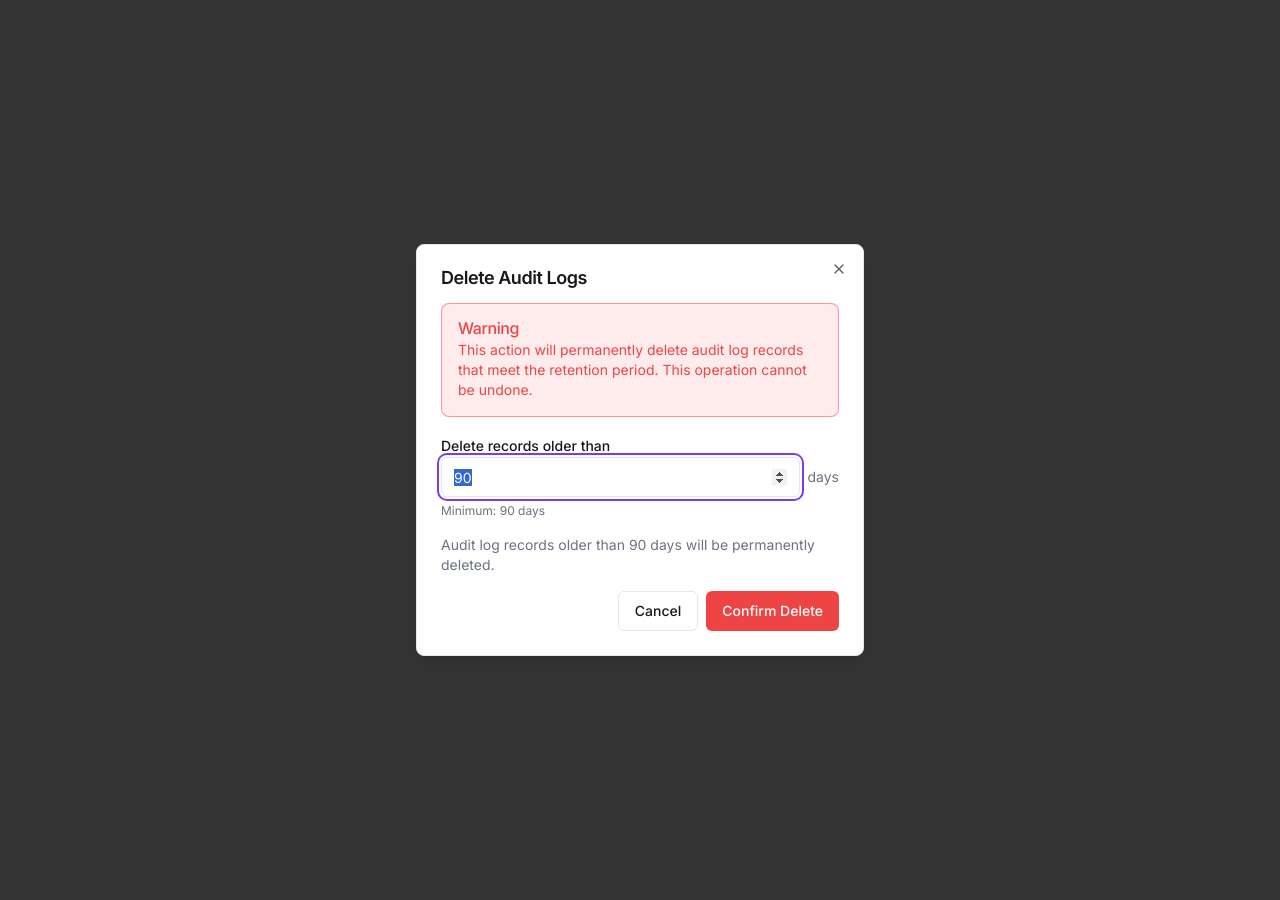
Test: DeleteAuditLogsDialog › defaults to 90 and disables confirm below minimum
Step 1. Replace the text in the number field with test id "txt-retention-days" with "89" → (620, 477), box [441,457,800,497]
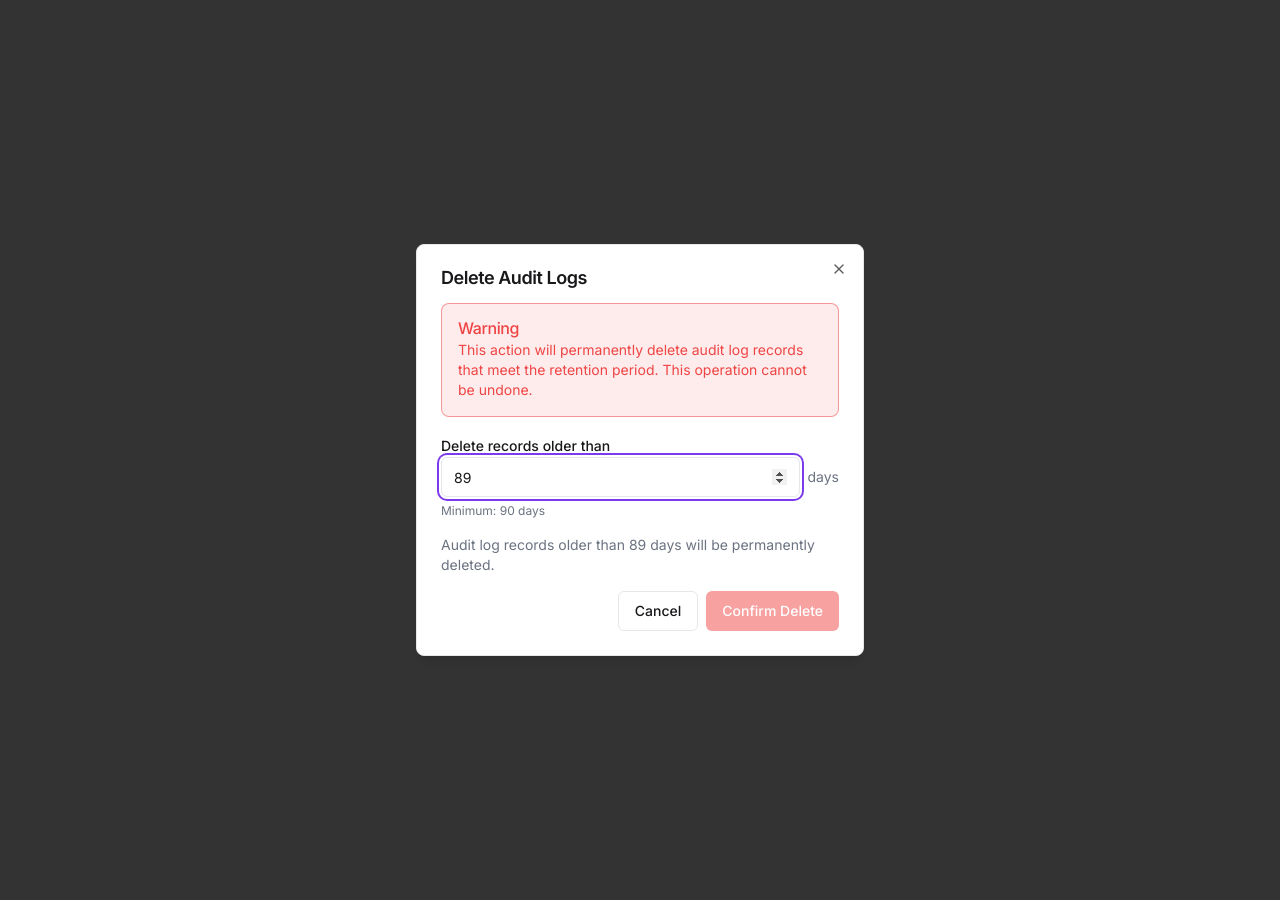
Step 2. Press Tab
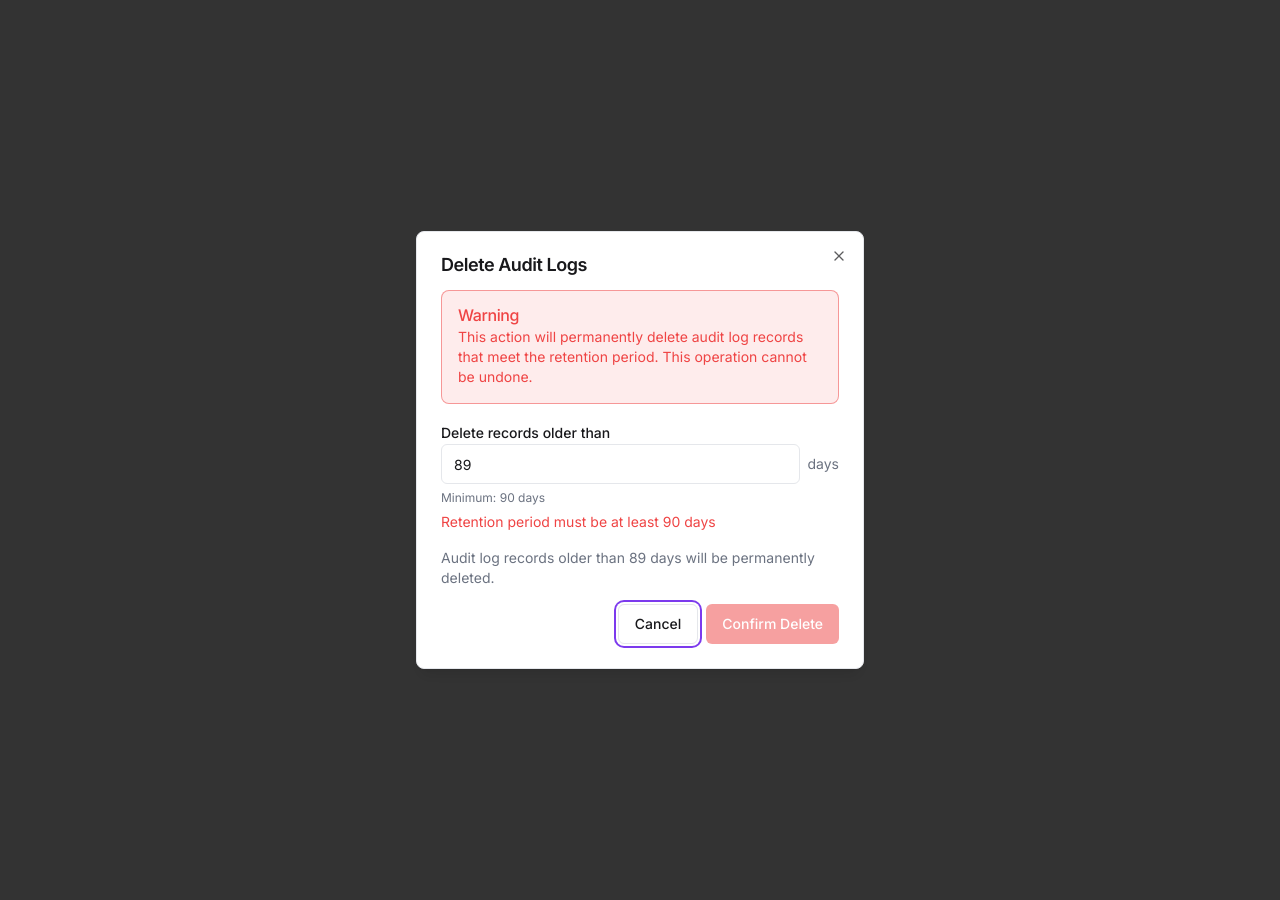
Expected: the button with test id "btn-confirm-delete" is disabled, [706,604,839,644]
Expected: the text "Retention period must be at least 90 days" is shown, [441,513,716,530]
